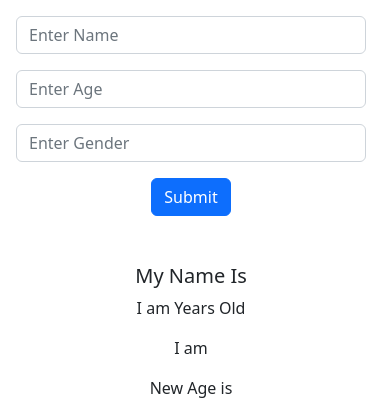
Test: change gender
Type "male" into the field with test id "person-gender" at (191, 143), box [16,124,366,162]
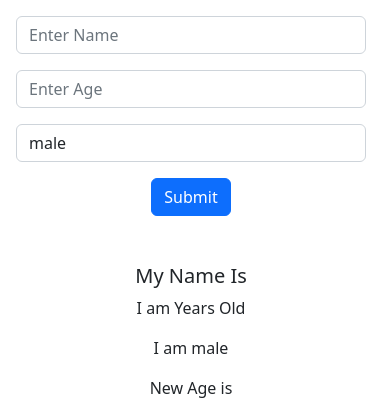
Check: the text with test id "gender" reads "I am male", box [154,337,228,359]
